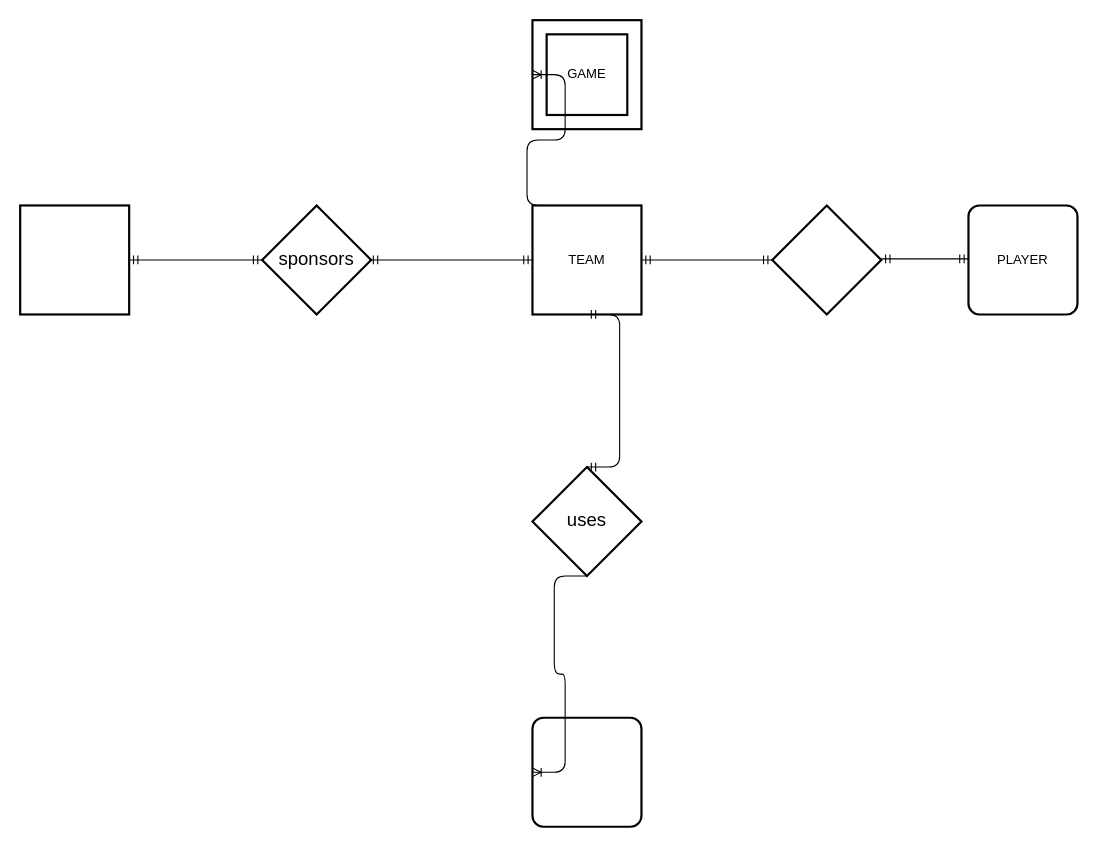
Image size: 1097x846. Some labels were removed from this diagram. The centre of each missing label's shape, as x and y in pixels:
CITY: [74,259]
COACH: [586,771]
has: [826,259]
